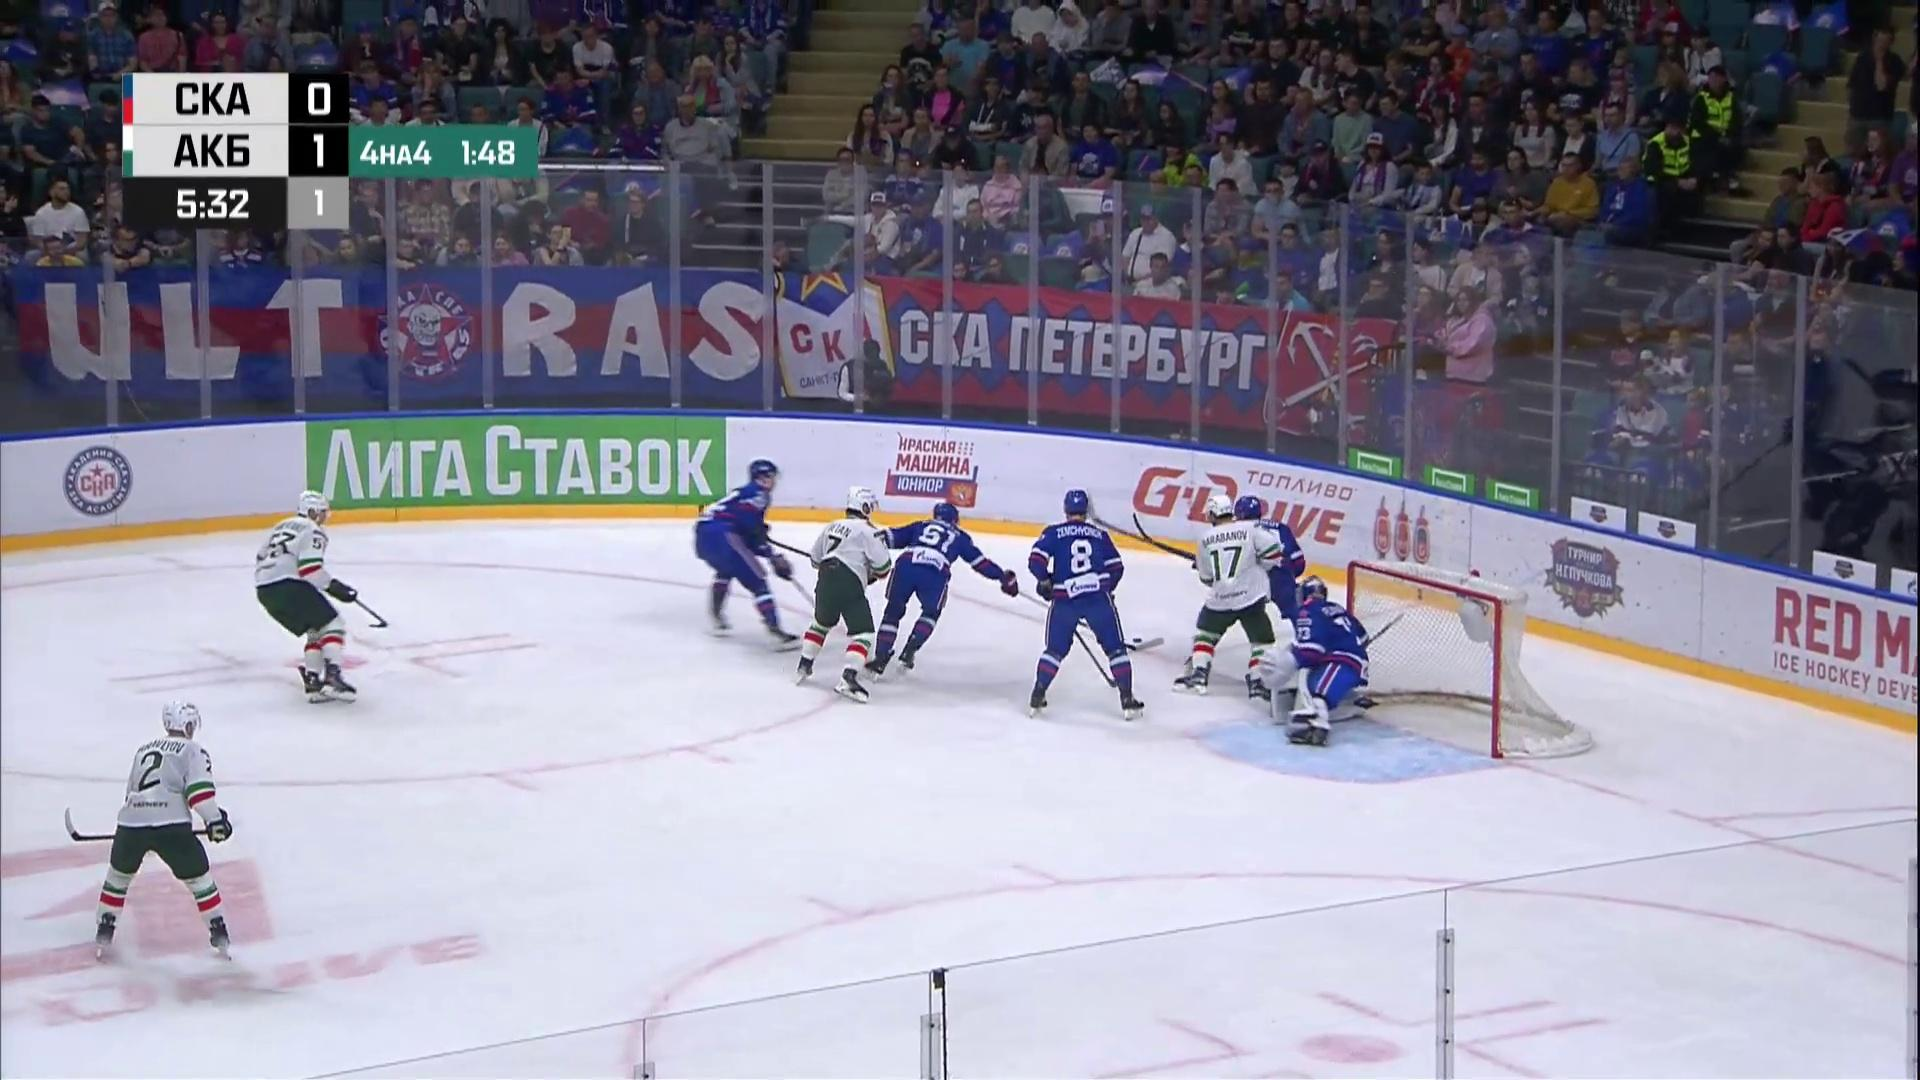ball: (1133, 637, 1142, 644)
